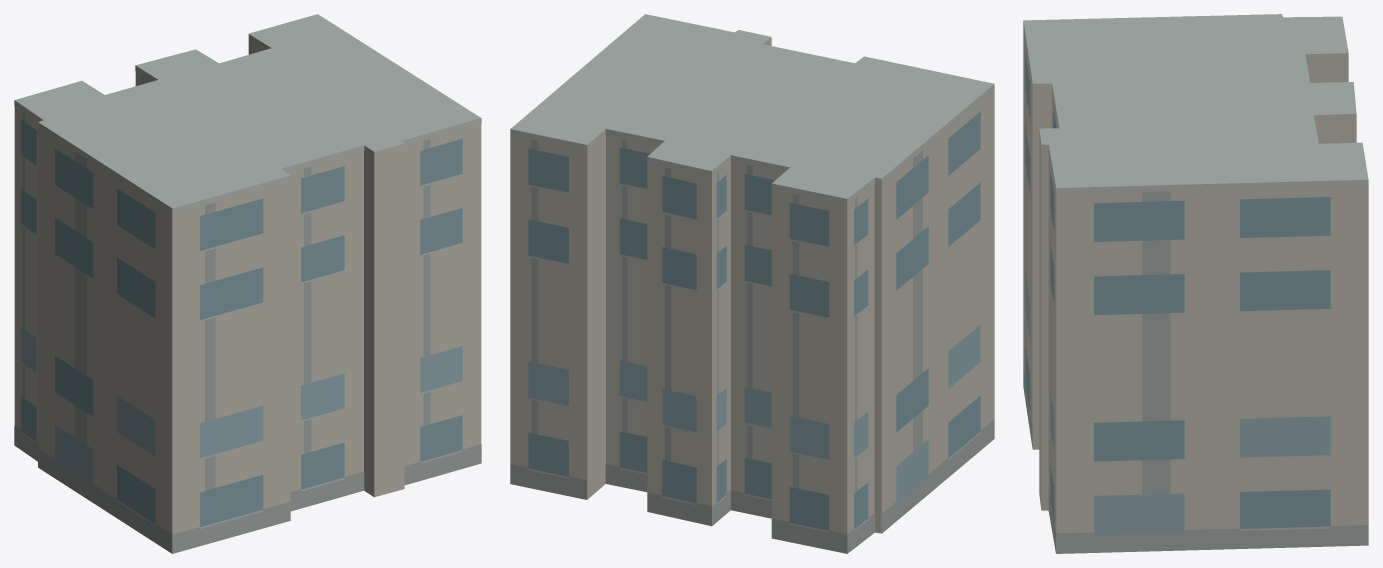
The model's file is survey-upis-32526640.glb.
3 renders of one model, left to right at view 1: azimuth 30°, elevation 25°; view 2: azimuth 150°, elevation 25°; view 3: azimuth 270°, elevation 25°, orthographic. The views are drawn at different scales.
Parts seen in each view (by area): view 1: survey-upis-32526640.tmp; view 2: survey-upis-32526640.tmp; view 3: survey-upis-32526640.tmp.
Part boxes in pixels (x1,y1,x2,y2): survey-upis-32526640.tmp: (14, 14, 481, 553); survey-upis-32526640.tmp: (510, 14, 994, 553); survey-upis-32526640.tmp: (1023, 14, 1368, 553).
Bounding box in the file's own units: 14.14 × 13.85 × 11.85.
